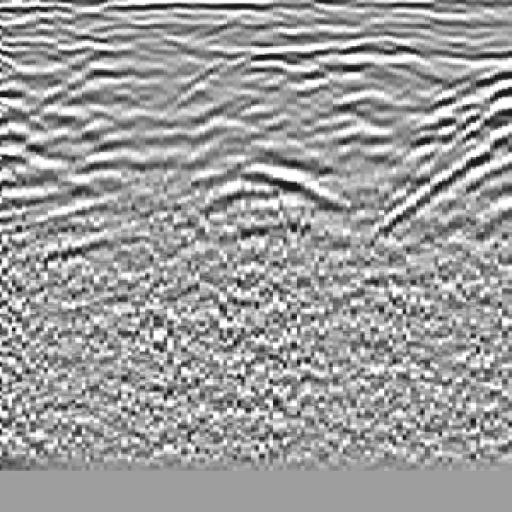metalic: (179, 118, 342, 262)
nonmetalic: (374, 53, 512, 259)
